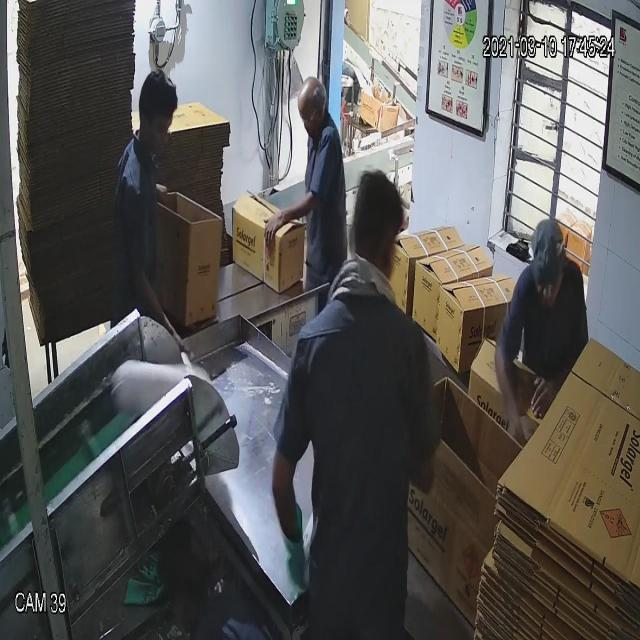gloves: (266, 493, 314, 615)
no-gloves: (254, 185, 338, 259), (131, 252, 187, 358), (492, 334, 532, 457), (524, 353, 574, 437)
